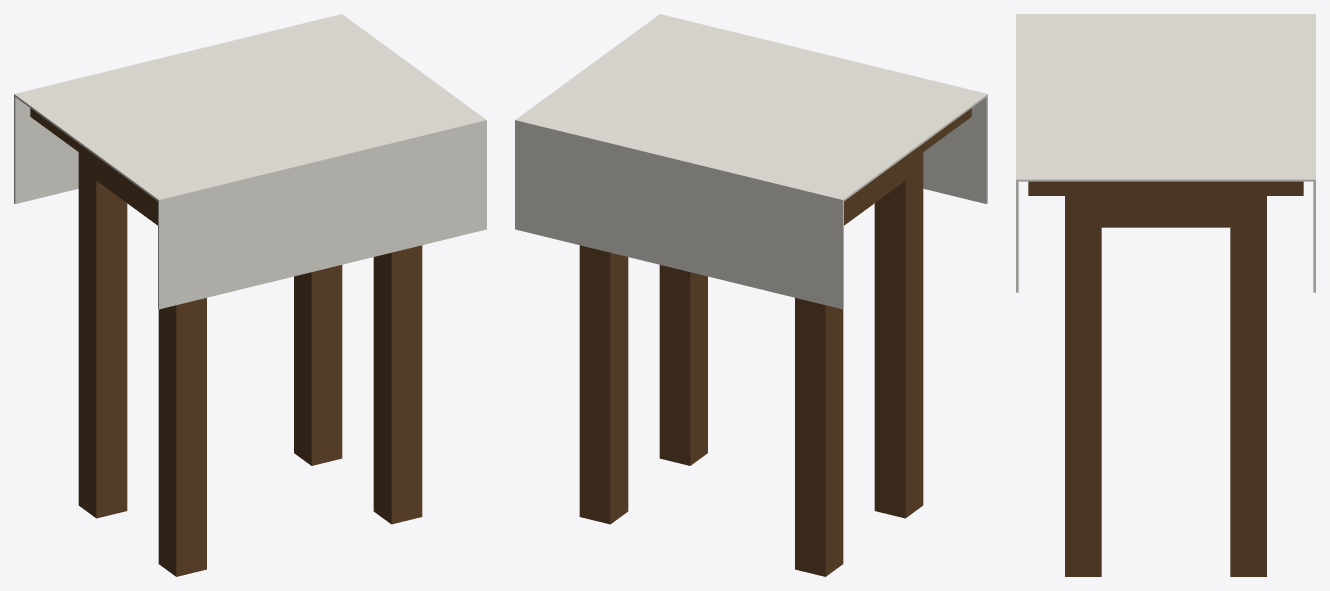
The picture shows the model from 3 angles, left to right: view 1: azimuth 30°, elevation 25°; view 2: azimuth 150°, elevation 25°; view 3: azimuth 270°, elevation 25°; orthographic projection. The views are drawn at different scales.
Visible parts, largest first — view 1: parametric-variant-table-1st-pub-db6992be6073536081af; view 2: parametric-variant-table-1st-pub-db6992be6073536081af; view 3: parametric-variant-table-1st-pub-db6992be6073536081af.
Boxes of the visible parts, bbox=[...] form: parametric-variant-table-1st-pub-db6992be6073536081af: bbox=[14, 14, 486, 576]; parametric-variant-table-1st-pub-db6992be6073536081af: bbox=[515, 14, 987, 576]; parametric-variant-table-1st-pub-db6992be6073536081af: bbox=[1016, 14, 1315, 576].
Bounding box in the file's own units: 0.64 × 0.754 × 0.49.
